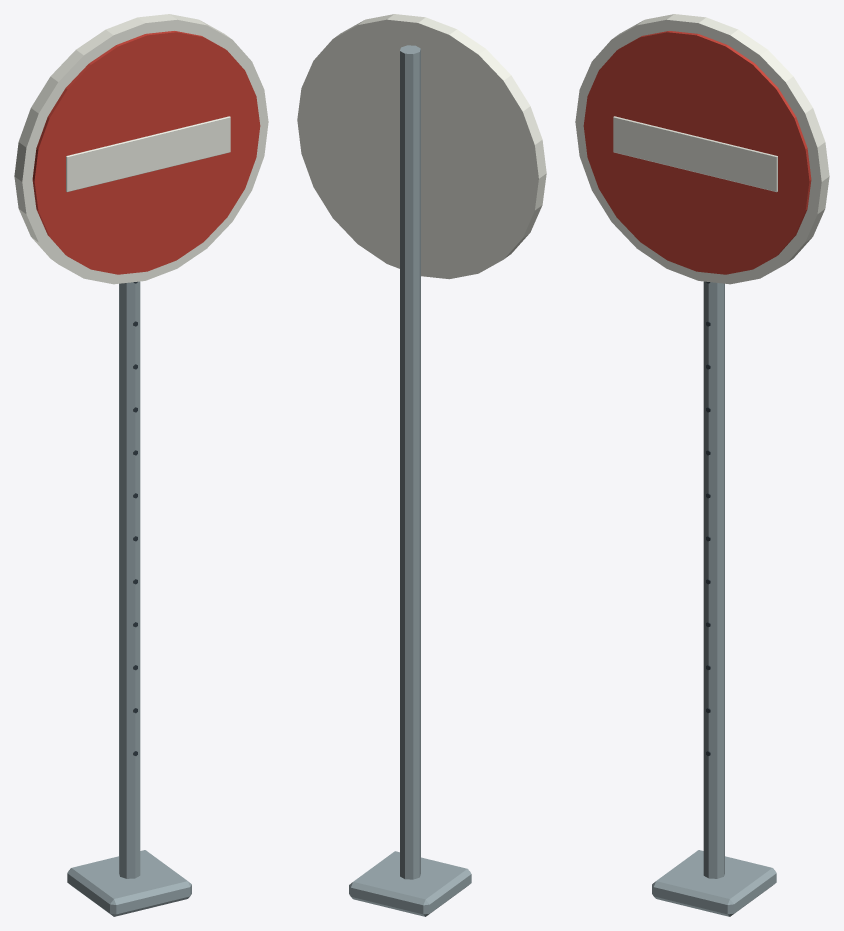
File: Sign_No_Entry.glb
3 renders of one model, left to right at view 1: azimuth 30°, elevation 25°; view 2: azimuth 150°, elevation 25°; view 3: azimuth 330°, elevation 25°, orthographic.
Parts seen in each view (by area): view 1: Sign_No_Entry; view 2: Sign_No_Entry; view 3: Sign_No_Entry.
Part boxes in pixels (x1,y1,x2,y2): Sign_No_Entry: [14, 14, 268, 916]; Sign_No_Entry: [297, 14, 546, 916]; Sign_No_Entry: [575, 14, 829, 916].
Bounding box in the file's own units: 0.72 × 2.46 × 0.24.
